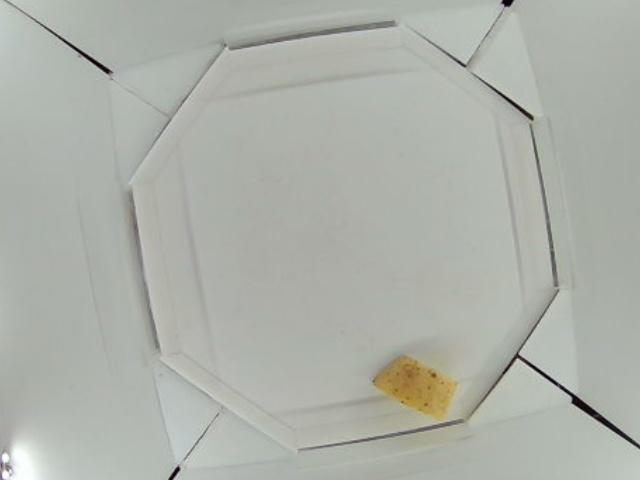Potato: (372, 353, 460, 420)
